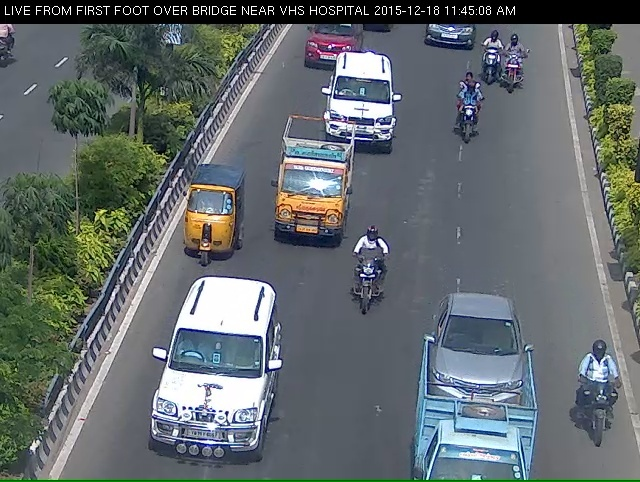Auto: (415, 311, 540, 480), (266, 124, 349, 262), (173, 163, 233, 278)
Car: (154, 300, 270, 479), (328, 56, 396, 164), (295, 15, 364, 84), (295, 18, 363, 83)
Person: (588, 372, 626, 481), (352, 251, 379, 340), (455, 79, 479, 150), (504, 43, 528, 104)
